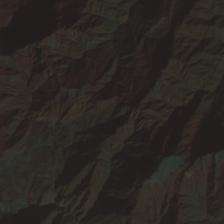landslides: (56, 32, 92, 59), (153, 176, 166, 195)
